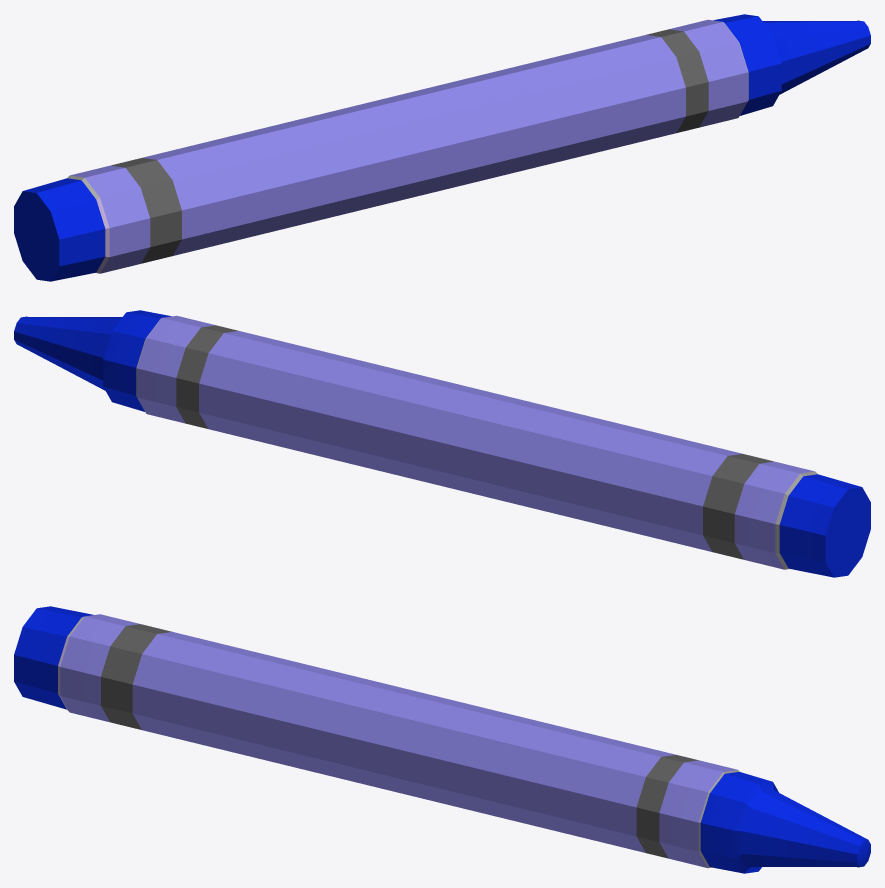
Rendered from Crayon_Blue.fbx.
The picture shows the model from 3 angles, top to bottom: view 1: azimuth 30°, elevation 25°; view 2: azimuth 150°, elevation 25°; view 3: azimuth 330°, elevation 25°; orthographic projection.
Parts seen in each view (by area): view 1: pCylinder9; view 2: pCylinder9; view 3: pCylinder9.
Boxes of the visible parts, box(x1,y1,x2,y2) form: pCylinder9: box(14, 14, 870, 281); pCylinder9: box(14, 310, 870, 577); pCylinder9: box(14, 606, 870, 873).
Bounding box in the file's own units: 9.4 × 1.02 × 0.9667.
